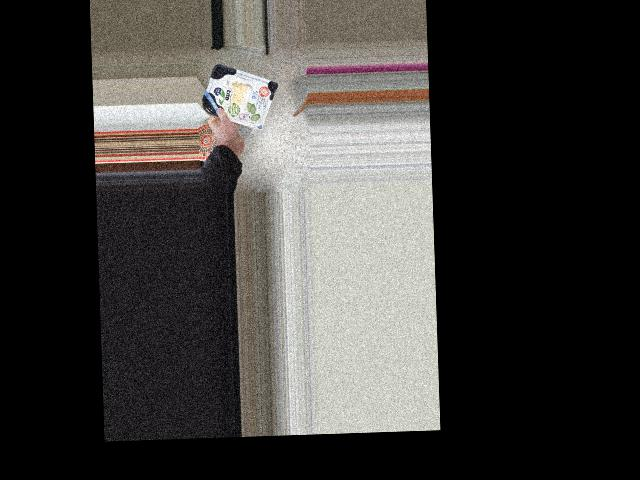cheese: (209, 75, 271, 125)
